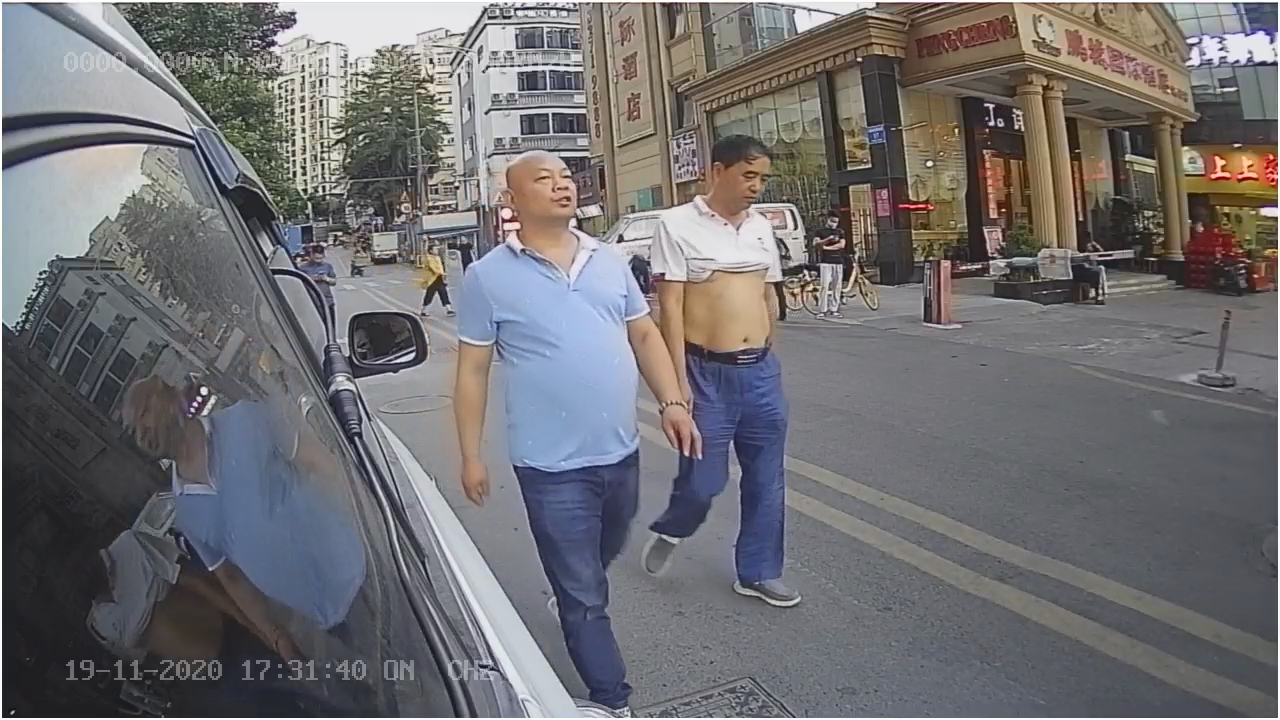person: (454, 148, 632, 504), (664, 133, 806, 574)
